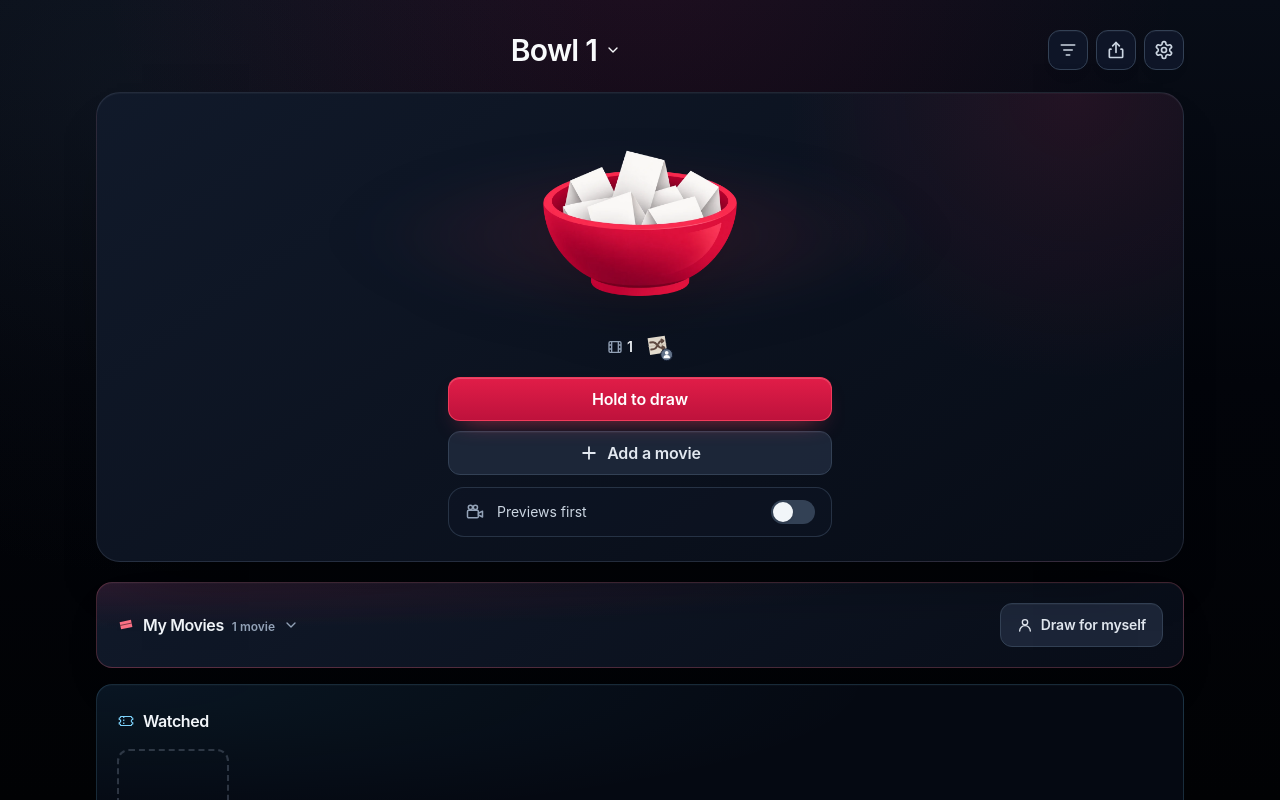
Test: BowlDashboard draw pool count › counts a one-title bowl in the singular in the filters overlay
Expected: the text "Bowl 1" is shown, [511,32,597,68]
Click the button named "filters" at (1068, 50), box [1048,30,1088,70]
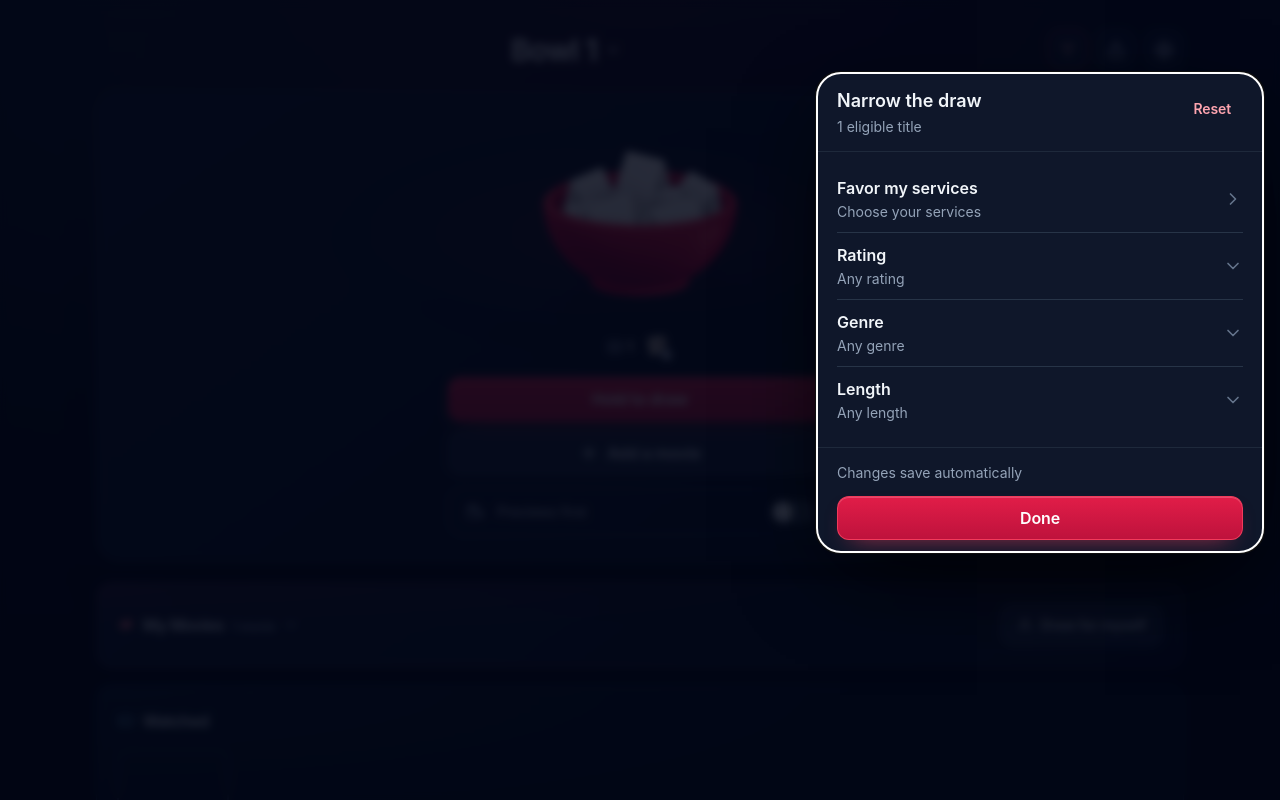
Result: the text "1 eligible title" is shown at [837,118,922,135]
